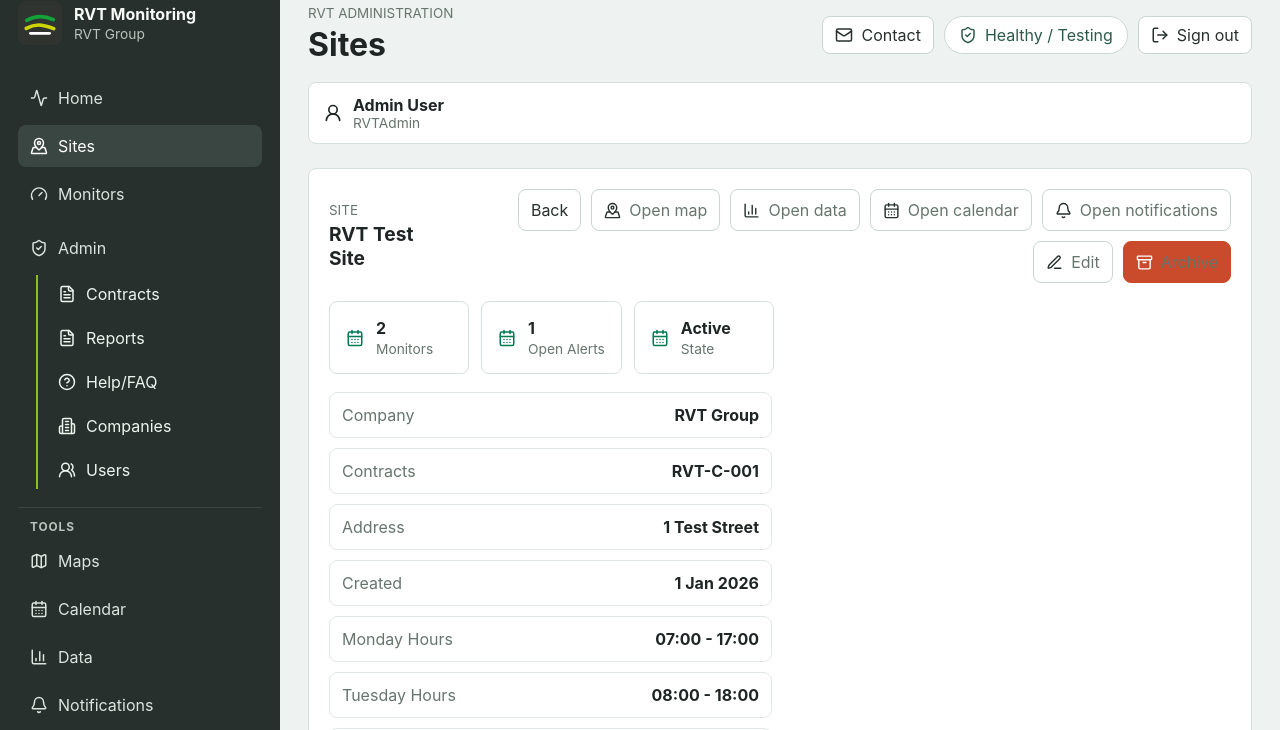
Test: App › renders per-day site hours on Site Detail and Edit Site
Expected: the heading "RVT Test Site" is shown, [329,222,413,270]
Expected: the text "Monday Hours" is shown, [342,629,453,649]
Click the button "Edit".
click(1073, 262)  # box [1033,241,1113,283]
(page scrolled)
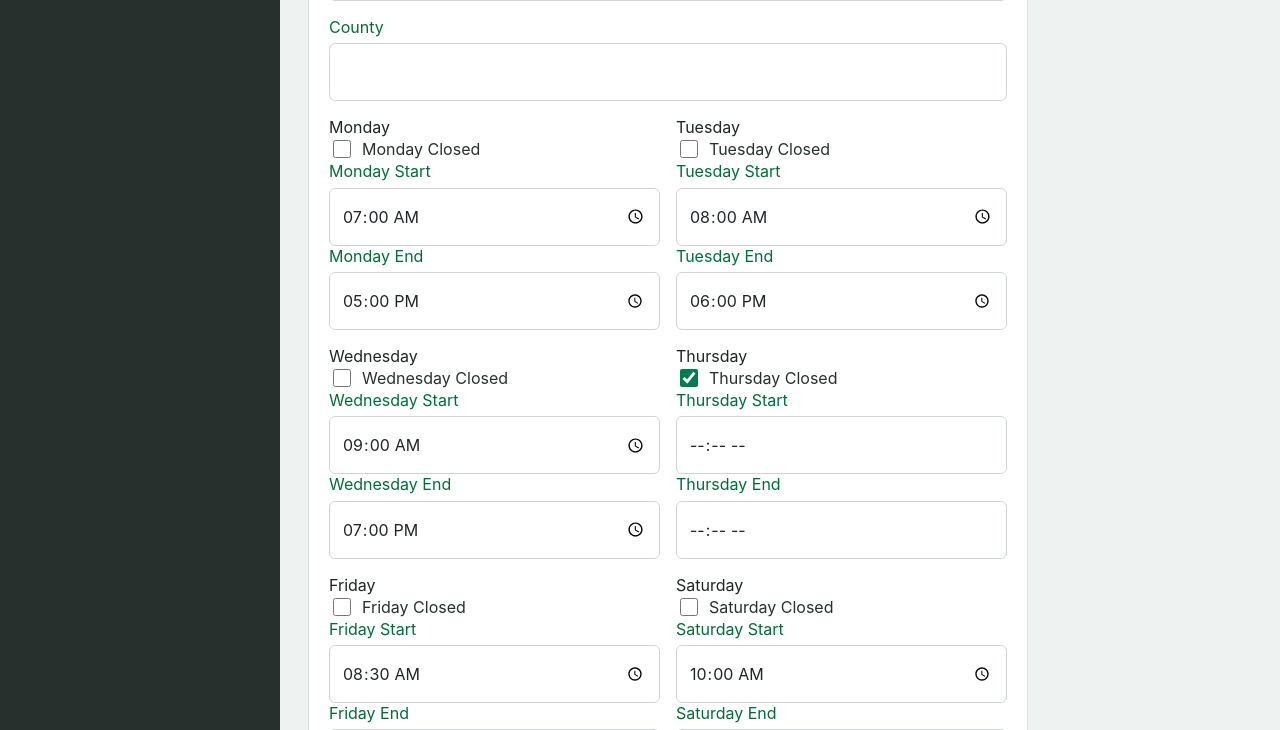
Expected: the time field labelled "Monday Start" holds "07:00", [329,188,660,246]
Expected: the time field labelled "Wednesday Start" holds "09:00", [329,416,660,474]
Expected: the checkbox labelled "Thursday Closed" is checked, [680,369,698,387]
